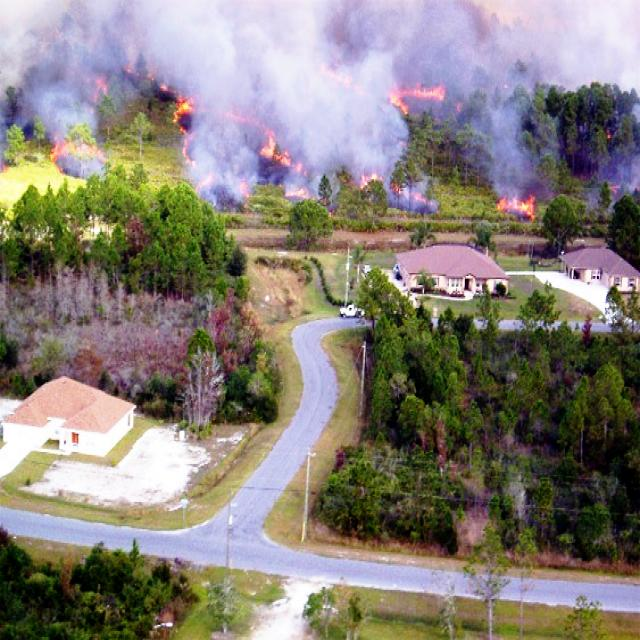api: (224, 111, 313, 183), (390, 74, 448, 123), (171, 85, 200, 177), (316, 63, 373, 96), (45, 141, 106, 169), (495, 194, 540, 224), (286, 184, 334, 212), (90, 73, 115, 107)
asap: (262, 1, 451, 220), (381, 1, 563, 217), (144, 1, 284, 221), (1, 1, 144, 191), (587, 144, 640, 222)
